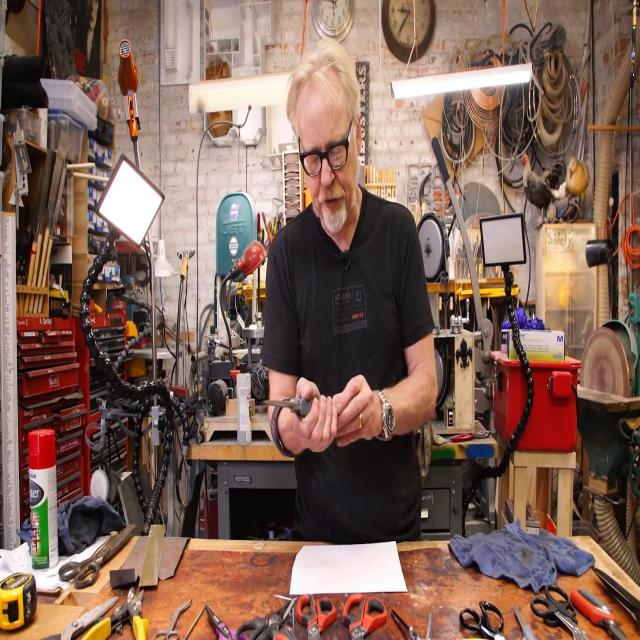scissor: (59, 525, 135, 589), (44, 595, 119, 640), (571, 586, 627, 640), (532, 584, 580, 640), (592, 566, 640, 620), (234, 600, 294, 640), (344, 594, 386, 640), (297, 593, 336, 640), (543, 599, 587, 640), (460, 601, 505, 640), (206, 605, 247, 640), (392, 608, 431, 640), (263, 398, 314, 417), (513, 604, 535, 640), (272, 608, 296, 640)
